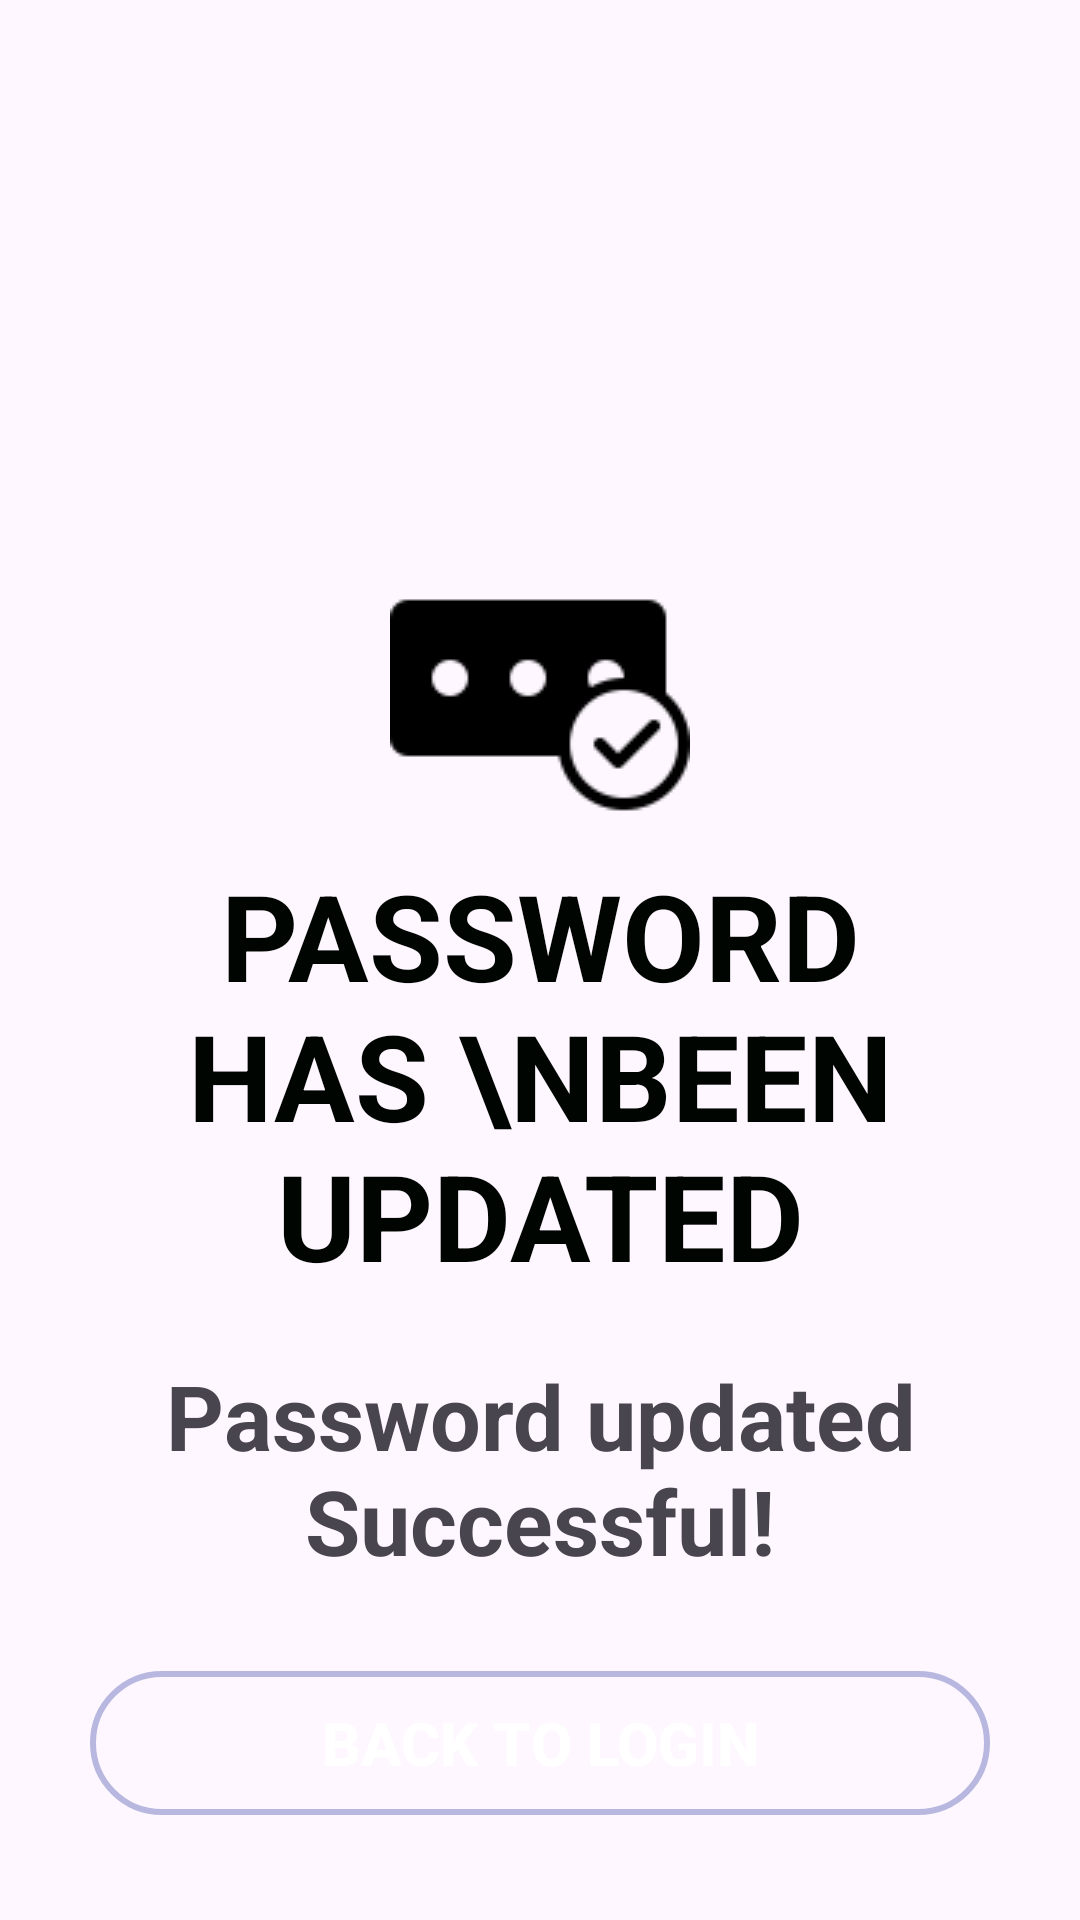

Screen size 1080w x 1920h. Icon name, then its box in pixels as {"left": x1, "top": y1, "right": x2, "bottom": y2}:
secu: {"left": 390, "top": 599, "right": 690, "bottom": 811}
